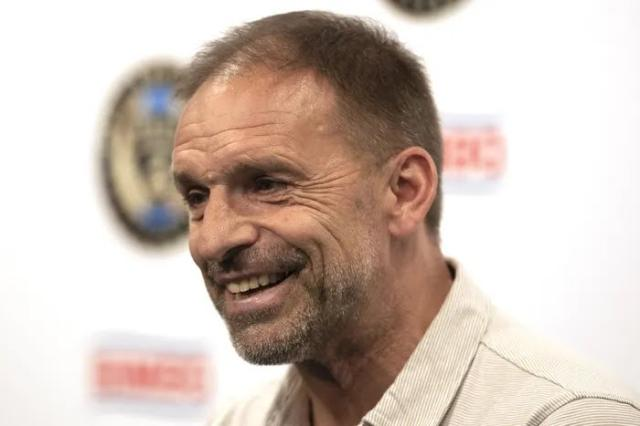crows_feet: (292, 179, 320, 207)
forehead: (236, 116, 276, 131), (174, 132, 196, 158), (176, 114, 206, 132), (256, 106, 296, 118), (209, 141, 239, 155), (196, 128, 230, 140)
gummy_smile: (262, 224, 296, 248)
masseter: (320, 218, 346, 250), (318, 255, 332, 294)
